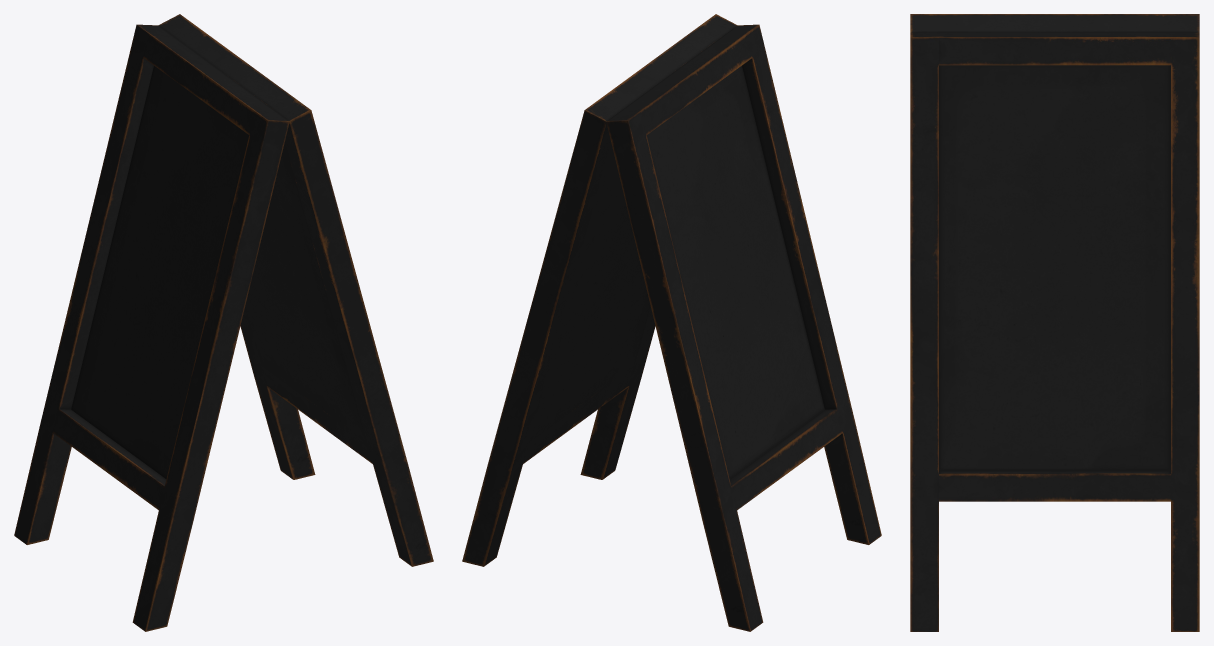
The picture shows the model from 3 angles, left to right: view 1: azimuth 30°, elevation 25°; view 2: azimuth 150°, elevation 25°; view 3: azimuth 270°, elevation 25°; orthographic projection. The views are drawn at different scales.
Visible parts, largest first — view 1: SM_floor_sign.002; view 2: SM_floor_sign.002; view 3: SM_floor_sign.002.
Boxes of the visible parts, <box> form: SM_floor_sign.002: <box>14,14,433,631</box>; SM_floor_sign.002: <box>462,14,881,631</box>; SM_floor_sign.002: <box>910,14,1199,631</box>.
Size of the model in its own units: 71.15 by 113 by 56.19.
Materials: 1 (1 with a texture image).
